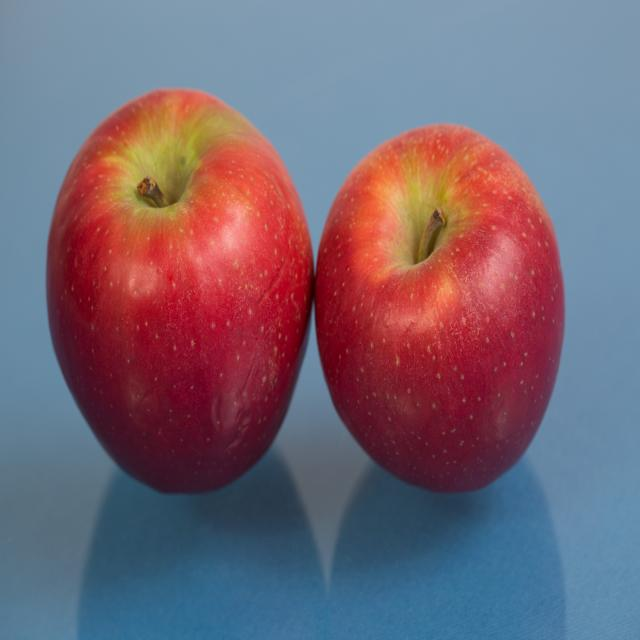Apple: (48, 82, 312, 506), (316, 123, 569, 488)
